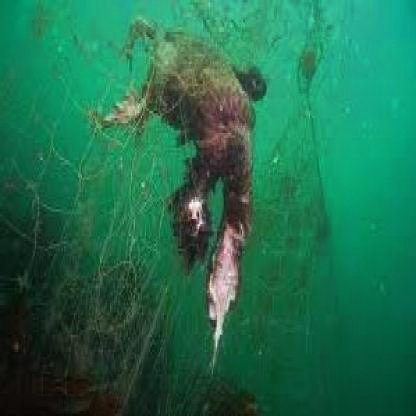net: (0, 0, 162, 416)
